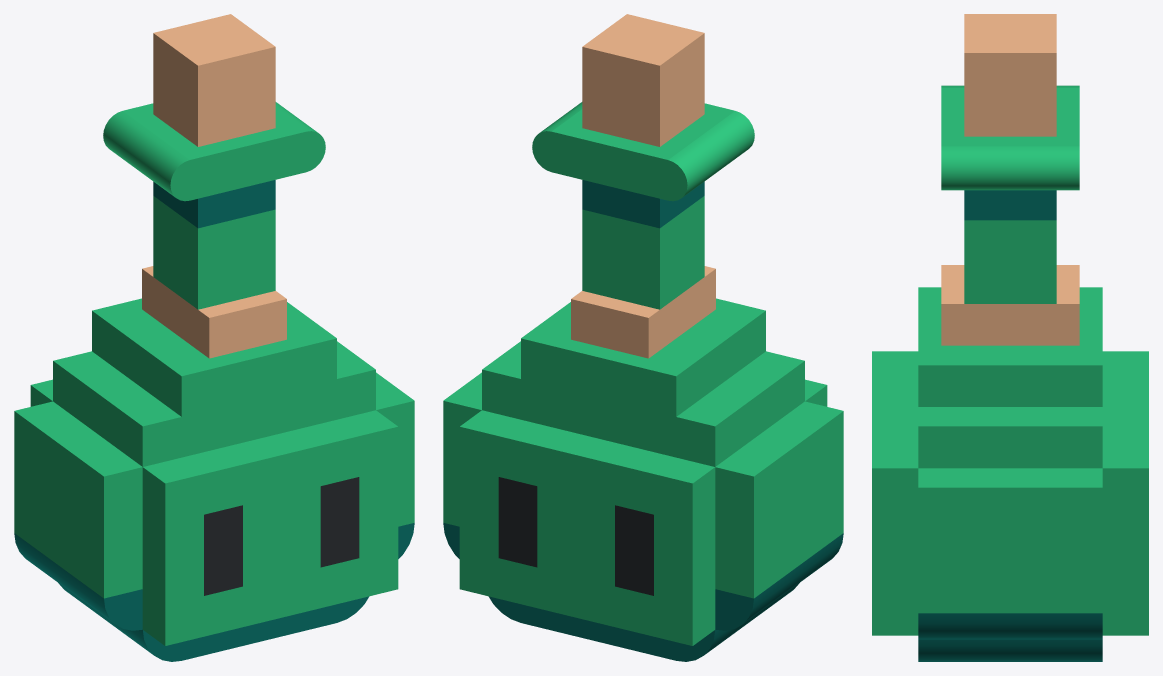
Rendered from SlimeInABottle.fbx.
3 renders of one model, left to right at view 1: azimuth 30°, elevation 25°; view 2: azimuth 150°, elevation 25°; view 3: azimuth 270°, elevation 25°, orthographic. The views are drawn at different scales.
Visible parts, largest first — view 1: generated; view 2: generated; view 3: generated.
Boxes of the visible parts, x1,y1,x2,y2 form: generated: (14, 14, 414, 661); generated: (443, 14, 843, 661); generated: (872, 14, 1148, 661).
Bounding box in the file's own units: 80 × 140 × 60.
